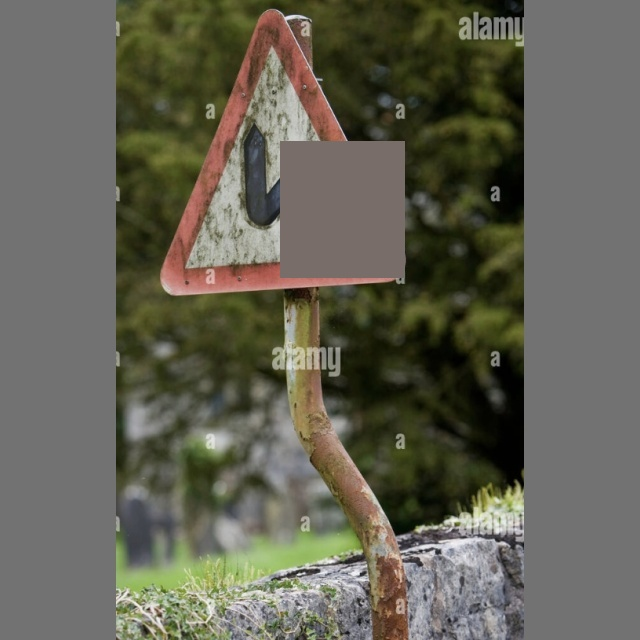Left_Reverse_Bend: (166, 8, 417, 295)
